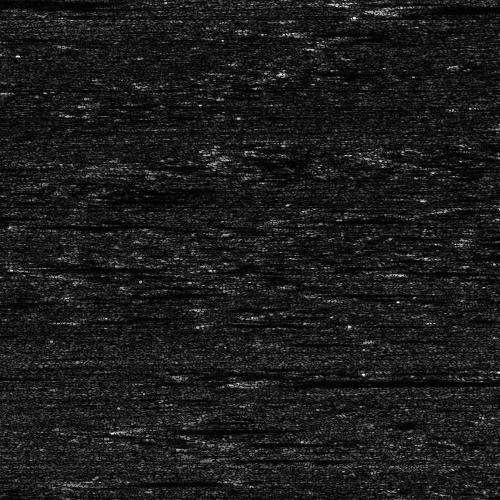object: (363, 0, 436, 17), (70, 188, 133, 207), (320, 0, 393, 10), (228, 375, 301, 384), (45, 477, 138, 484), (104, 425, 187, 432), (185, 454, 258, 459), (205, 438, 258, 443), (363, 268, 404, 273), (0, 264, 36, 269), (298, 30, 329, 33)
shadow: (102, 188, 212, 207), (265, 375, 490, 384), (400, 0, 500, 17), (0, 0, 80, 19), (357, 0, 500, 10), (146, 425, 287, 432), (221, 454, 367, 459), (92, 477, 192, 484), (16, 264, 156, 269), (0, 0, 118, 5), (384, 268, 500, 273), (231, 438, 341, 443), (314, 30, 397, 33)
